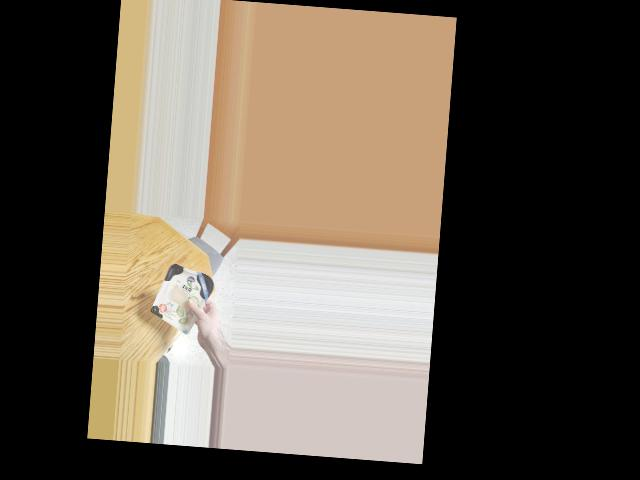cheese: (152, 259, 213, 324)
